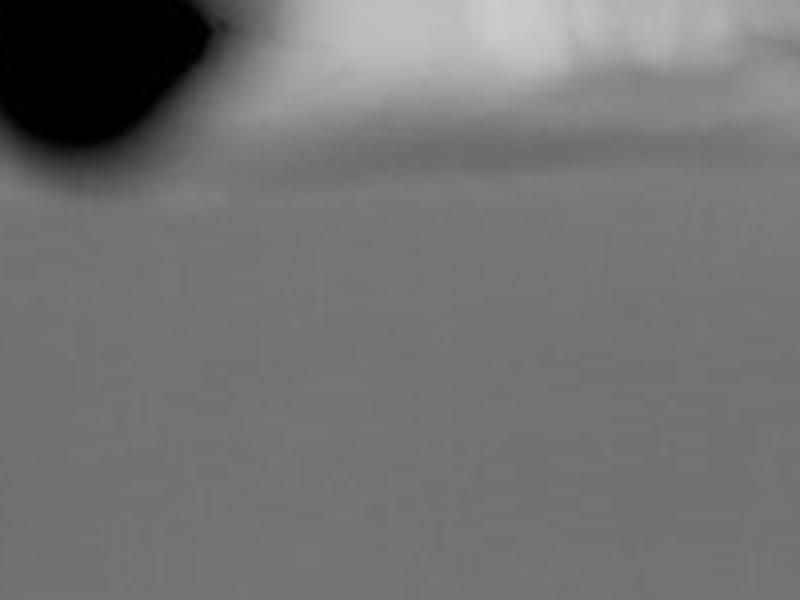defect: (1, 3, 212, 151)
